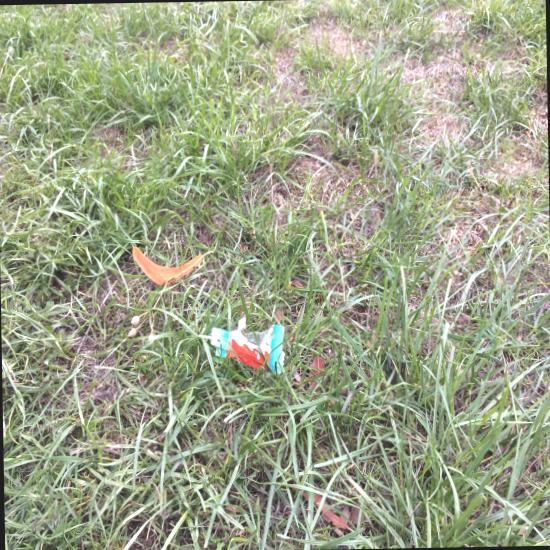Glass bottle: (104, 289, 180, 347)
Plastic film: (116, 408, 135, 422)
Tissues: (374, 318, 399, 346)
Unlabeled litter: (14, 392, 25, 412)
